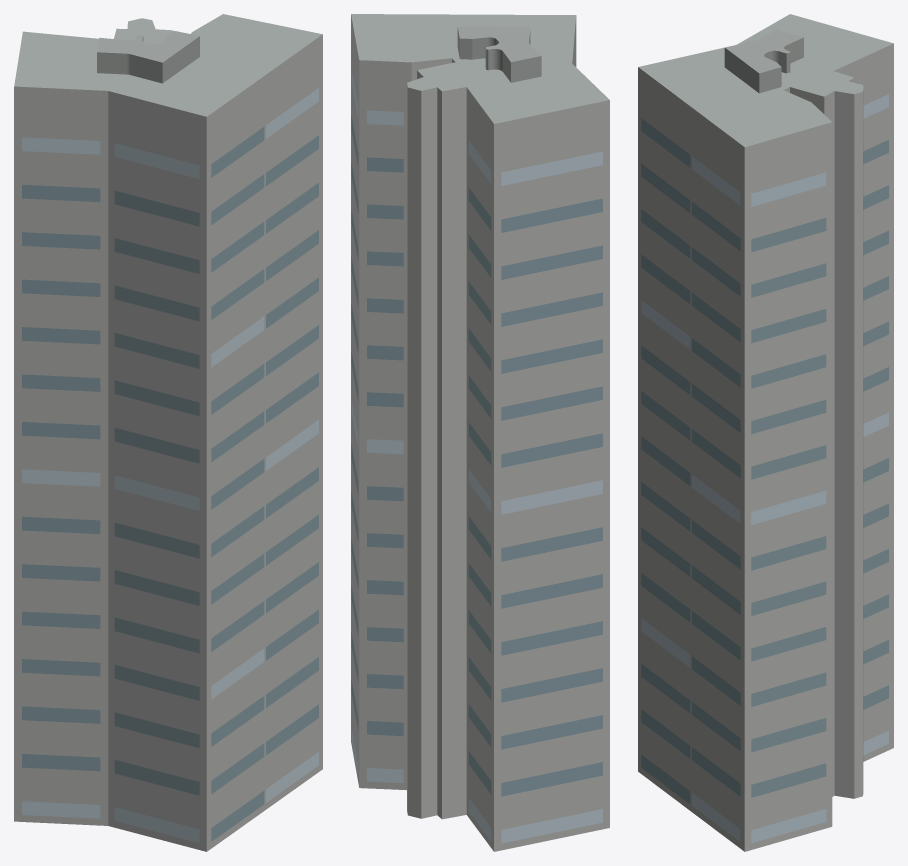
File: fallback-jamsil-trizium-318.glb
3 views of the same model, side by side, from view 1: azimuth 30°, elevation 25°; view 2: azimuth 150°, elevation 25°; view 3: azimuth 270°, elevation 25° (orthographic). The views are drawn at different scales.
Parts seen in each view (by area): view 1: fallback-jamsil-trizium-318; view 2: fallback-jamsil-trizium-318; view 3: fallback-jamsil-trizium-318.
Part boxes in pixels (x1,y1,x2,y2): fallback-jamsil-trizium-318: [14, 14, 322, 851]; fallback-jamsil-trizium-318: [351, 14, 609, 851]; fallback-jamsil-trizium-318: [638, 14, 893, 851].
Size of the model in its own units: 34.33 by 87 by 27.83.
